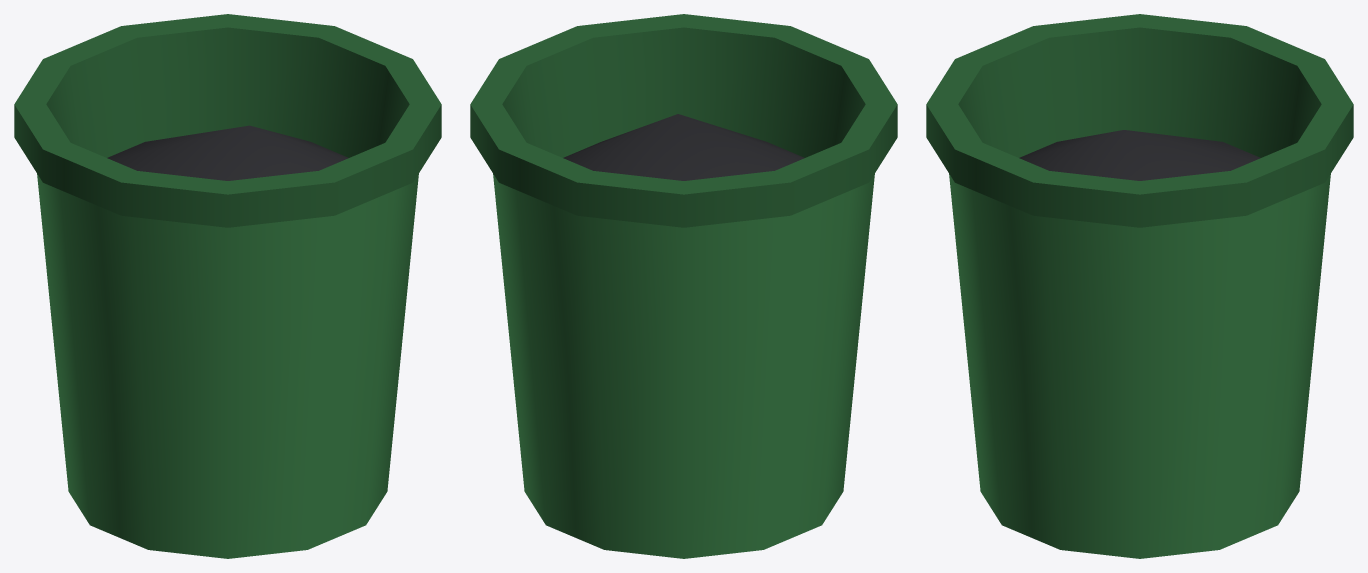
File: SM_Villager_Bin.fbx
The picture shows the model from 3 angles, left to right: view 1: azimuth 30°, elevation 25°; view 2: azimuth 150°, elevation 25°; view 3: azimuth 270°, elevation 25°; orthographic projection.
Parts seen in each view (by area): view 1: SM_Villager_Bin; view 2: SM_Villager_Bin; view 3: SM_Villager_Bin.
Part boxes in pixels (x1,y1,x2,y2): SM_Villager_Bin: (14, 14, 441, 558); SM_Villager_Bin: (470, 14, 897, 558); SM_Villager_Bin: (926, 14, 1353, 558).
Bounding box in the file's own units: 0.268 × 0.268 × 0.268.
Materials: 1 (1 with a texture image).
